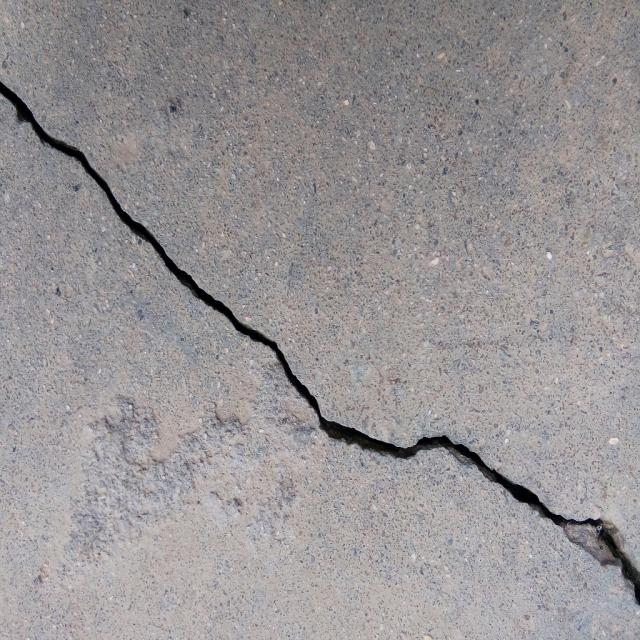cracks: (5, 81, 640, 618)
